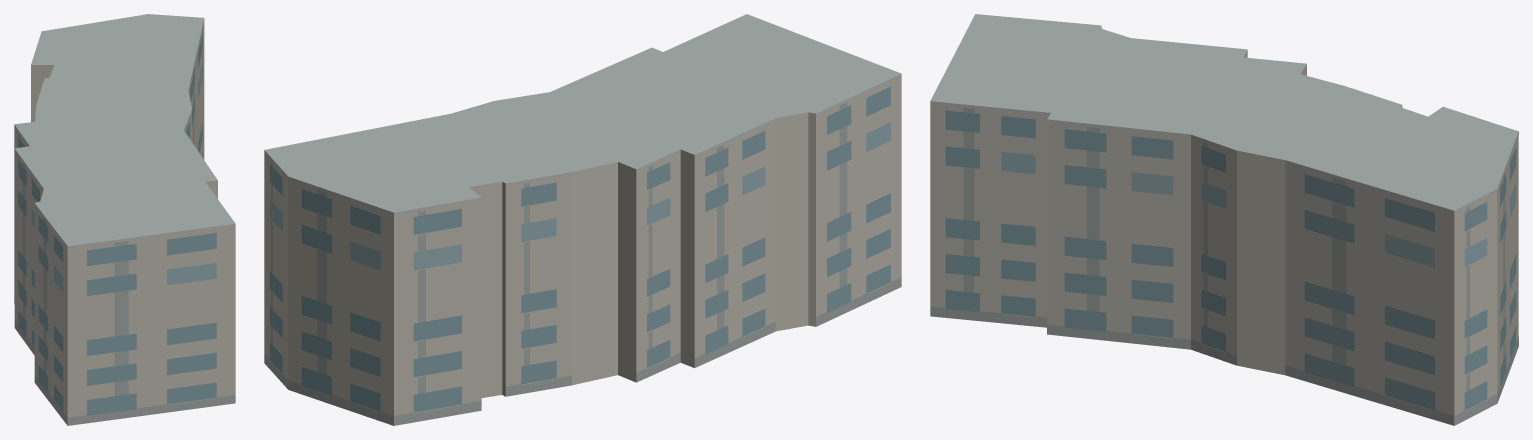
Rendered from survey-upis-32778303.glb.
3 renders of one model, left to right at view 1: azimuth 30°, elevation 25°; view 2: azimuth 150°, elevation 25°; view 3: azimuth 270°, elevation 25°, orthographic. The views are drawn at different scales.
Visible parts, largest first — view 1: survey-upis-32778303.tmp; view 2: survey-upis-32778303.tmp; view 3: survey-upis-32778303.tmp.
Part boxes in pixels (x1,y1,x2,y2): survey-upis-32778303.tmp: (14,14,235,425); survey-upis-32778303.tmp: (264,14,901,425); survey-upis-32778303.tmp: (930,14,1518,425).
Bounding box in the file's own units: 31.78 × 16.2 × 40.18.
